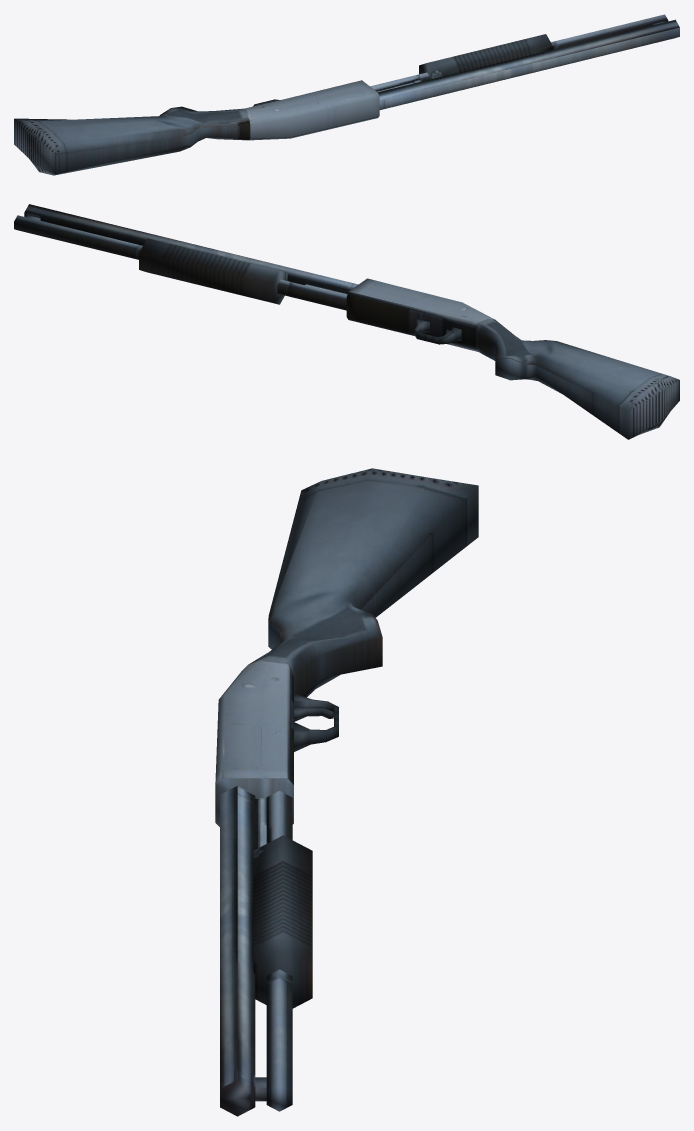
The model's file is breacher.glb.
3 renders of one model, top to bottom at view 1: azimuth 30°, elevation 25°; view 2: azimuth 150°, elevation 25°; view 3: azimuth 270°, elevation 25°, orthographic. The views are drawn at different scales.
Parts seen in each view (by area): view 1: Object_2; view 2: Object_2; view 3: Object_2.
Boxes of the visible parts, <box> form: Object_2: <box>14,14,679,175</box>; Object_2: <box>14,204,679,439</box>; Object_2: <box>215,468,478,1116</box>.
Size of the model in its own units: 4.95 by 0.3235 by 0.9316.
1 material, 1 textured.
